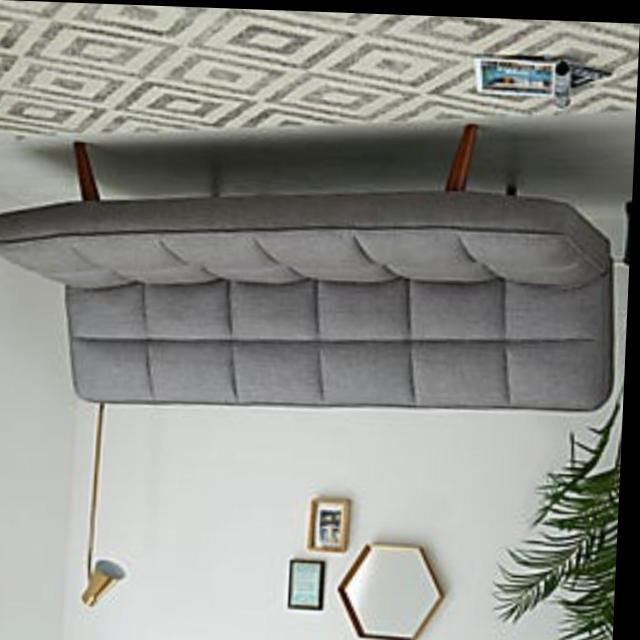Sofa: (0, 108, 626, 420)
